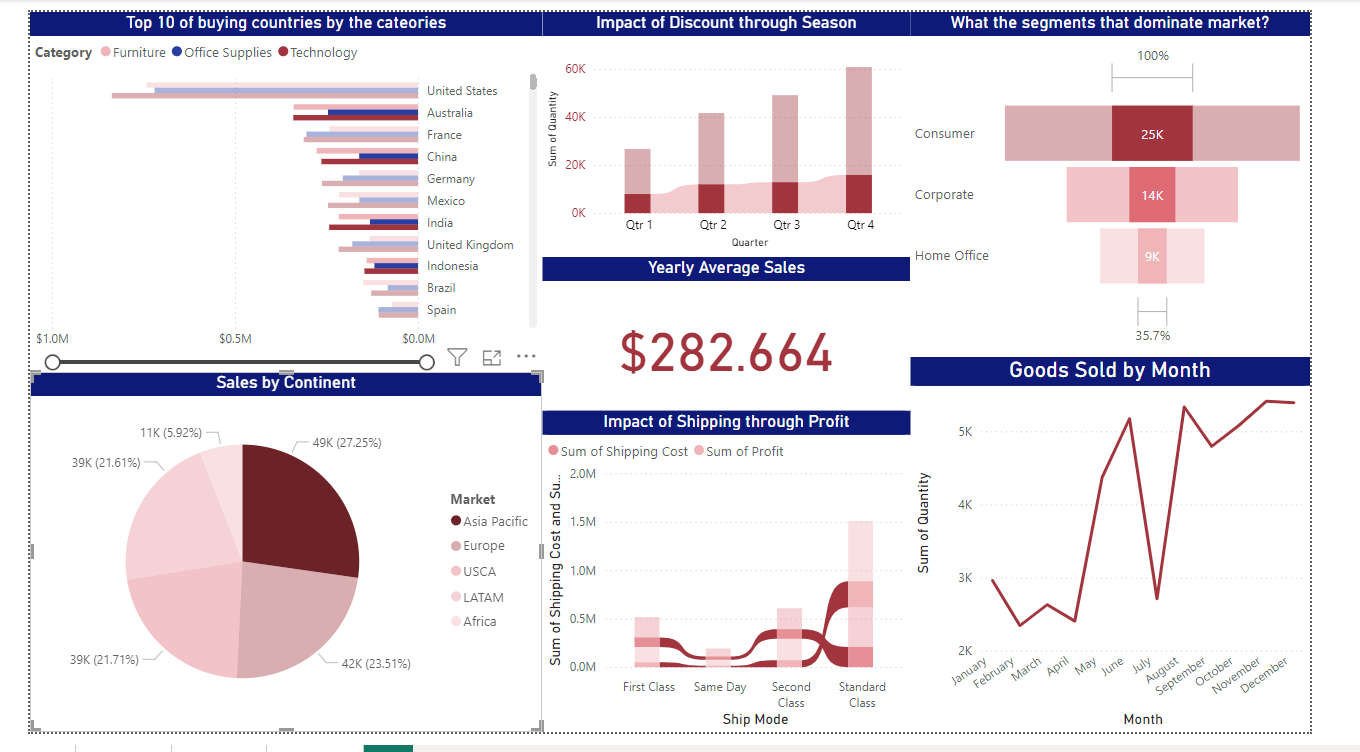

What the dashboard file says about the page in this screenshot:
{"tool":"powerbi","page":{"name":"Global Superstore 2016 Dashboard Report","canvas":[1280,720],"ordinal":0},"visuals":[{"type":"lineChart","title":"Sales Increase by Month","fields":{"Y":["Sum(Orders.Quantity)"],"Category":["Orders.Order Date.Variation.Date Hierarchy.Month"]},"box":[880,361.2,400,358.8],"z":0},{"type":"card","title":"Yearly Average Sales","fields":{"Values":["Avg(Orders.Sales)"]},"box":[512.2,245.6,367.8,157.8],"z":1000},{"type":"funnel","title":"What the segments that dominate market?","fields":{"Y":["Sum(Orders.Quantity)"],"Category":["Orders.Segment"]},"box":[880,0,400,360],"z":2000},{"type":"clusteredBarChart","title":"Top 10 of Buying Countries by the Cateories","fields":{"Category":["Orders.Country"],"Series":["Orders.Category"],"Y":["Sum(Orders.Sales)"]},"box":[0,0,512.2,361],"z":3000},{"type":"pieChart","title":"Sales by Continent","fields":{"Category":["Orders.Market"],"Y":["Sum(Orders.Quantity)"]},"box":[0,360,512.2,360],"z":4000},{"type":"ribbonChart","title":"Impact of Shipping through Profit","fields":{"Category":["Orders.Ship Mode","Orders.Ship Date.Variation.Date Hierarchy.Year","Orders.Ship Date.Variation.Date Hierarchy.Quarter","Orders.Ship Date.Variation.Date Hierarchy.Month","Orders.Ship Date.Variation.Date Hierarchy.Day"],"Y":["Sum(Orders.Shipping Cost)","Sum(Orders.Profit)"]},"box":[512.2,398.9,367.8,321.1],"z":5000},{"type":"ribbonChart","title":"Impact of Discount through Season","fields":{"Category":["Orders.Order Date.Variation.Date Hierarchy.Quarter"],"Y":["Sum(Orders.Quantity)"]},"box":[512.2,0,367.8,241.1],"z":6000}]}

Visuals, with their boxes in screenshot pixels (x1, y1, x2, y2), scaled from the page's 1280x720 canvas onto the 1360x752 screenshot:
"Sales Increase by Month" lineChart: x1=935, y1=377, x2=1359, y2=751
"Yearly Average Sales" card: x1=544, y1=257, x2=935, y2=421
"What the segments that dominate market?" funnel: x1=935, y1=0, x2=1359, y2=376
"Top 10 of Buying Countries by the Cateories" clusteredBarChart: x1=0, y1=0, x2=544, y2=377
"Sales by Continent" pieChart: x1=0, y1=376, x2=544, y2=751
"Impact of Shipping through Profit" ribbonChart: x1=544, y1=417, x2=935, y2=751
"Impact of Discount through Season" ribbonChart: x1=544, y1=0, x2=935, y2=252
